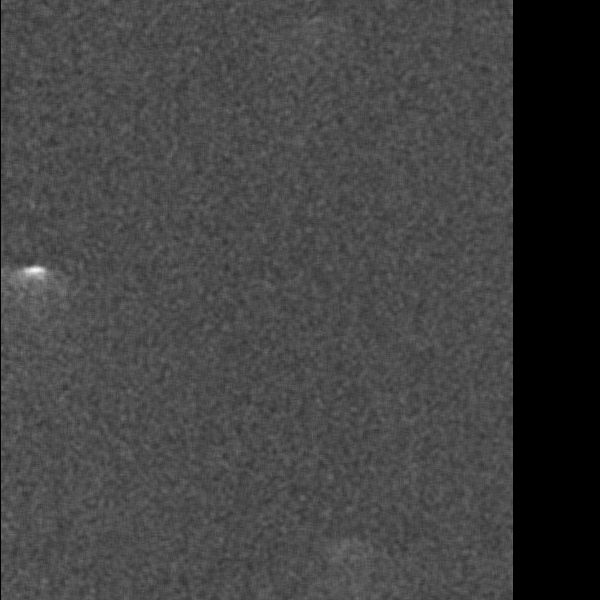spark: (330, 533, 365, 566), (19, 260, 48, 299), (303, 10, 328, 31)
